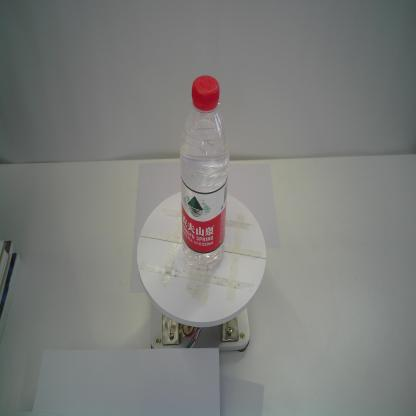Drink: (179, 74, 229, 271)
